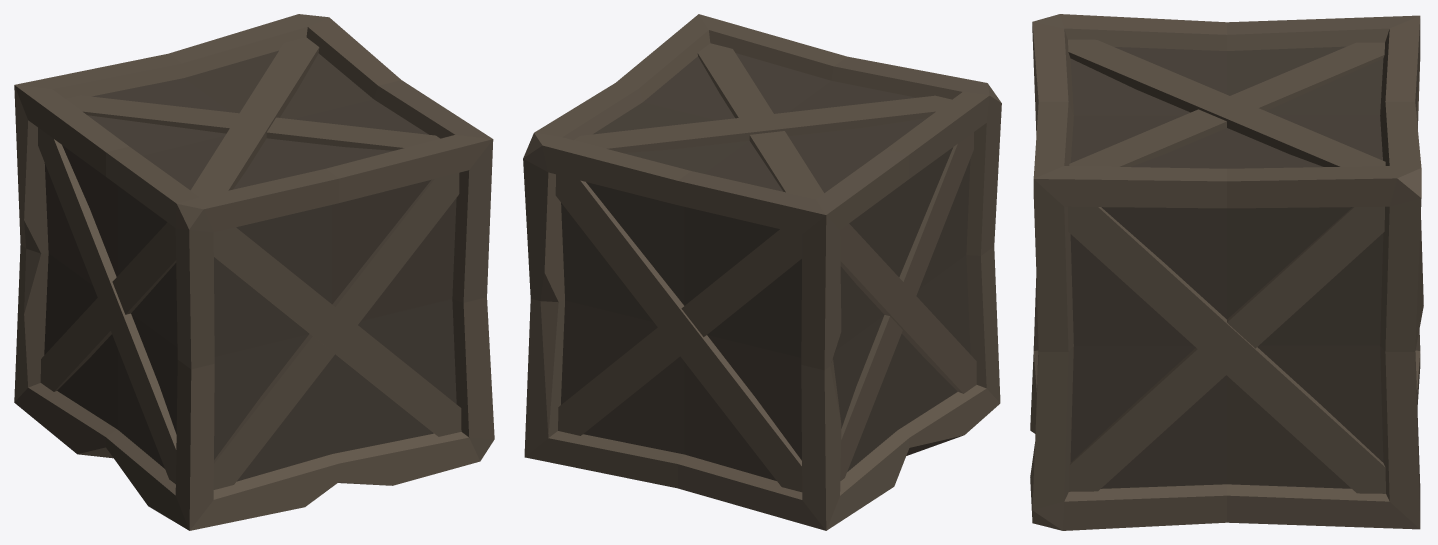
3 views of the same model, side by side, from view 1: azimuth 30°, elevation 25°; view 2: azimuth 150°, elevation 25°; view 3: azimuth 270°, elevation 25° (orthographic). The views are drawn at different scales.
Visible parts, largest first — view 1: box; view 2: box; view 3: box.
Part boxes in pixels (x1,y1,x2,y2): box: (14, 14, 494, 530); box: (523, 14, 1001, 530); box: (1030, 14, 1423, 530).
Size of the model in its own units: 91.42 by 91.42 by 91.96.
1 material, 1 textured.
